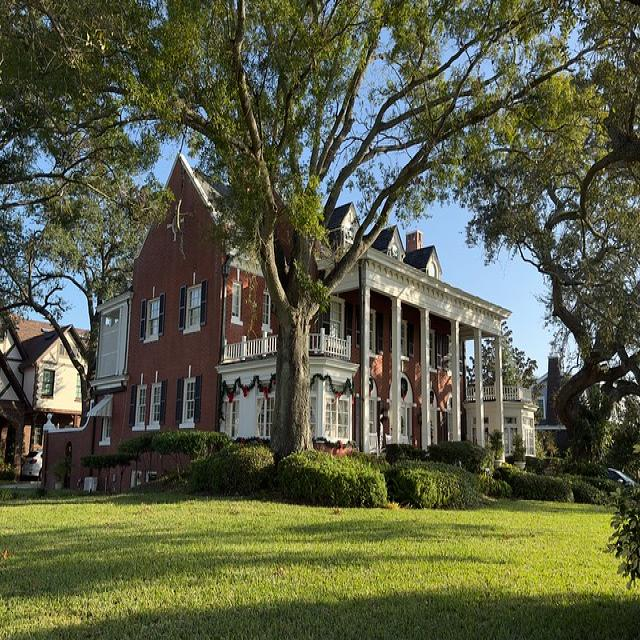Normal_building: (96, 150, 514, 478), (8, 319, 92, 433)
